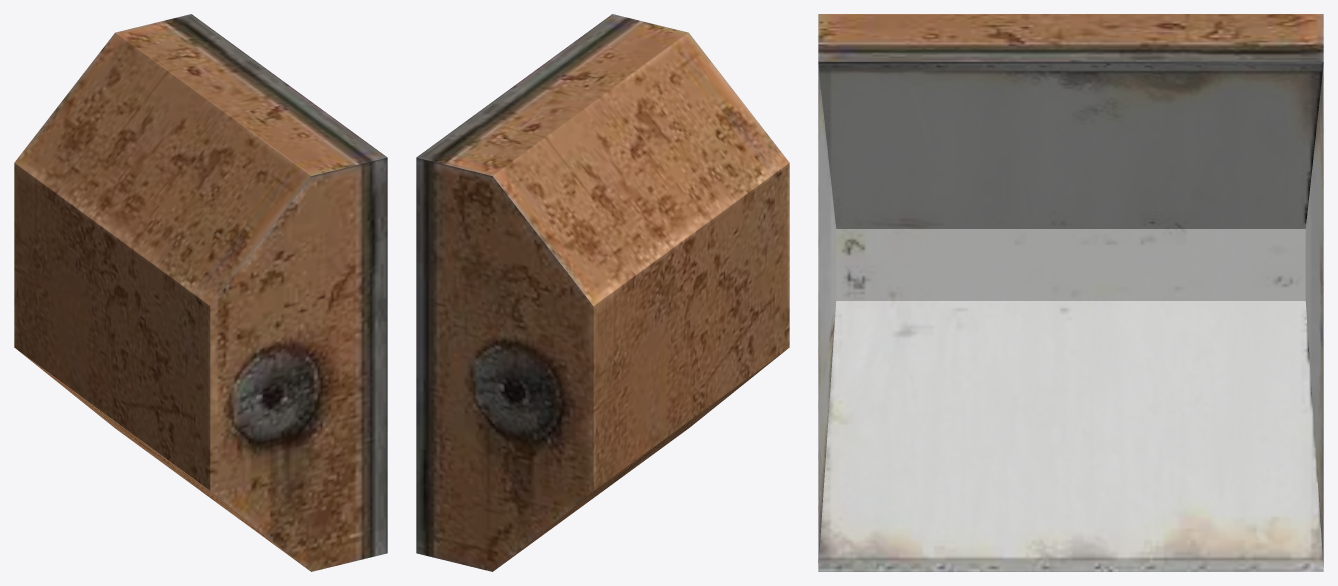
File: light_decklight01_on.glb
The picture shows the model from 3 angles, left to right: view 1: azimuth 30°, elevation 25°; view 2: azimuth 150°, elevation 25°; view 3: azimuth 270°, elevation 25°; orthographic projection. The views are drawn at different scales.
Visible parts, largest first — view 1: 0_metaldecklighthousing01; view 2: 0_metaldecklighthousing01; view 3: 2_metaldecklight01bulbon01, 0_metaldecklighthousing01, 1_metaldecklight01glass01.
Boxes of the visible parts, x1,y1,x2,y2 form: 0_metaldecklighthousing01: [14, 14, 387, 571]; 0_metaldecklighthousing01: [416, 14, 789, 571]; 2_metaldecklight01bulbon01: [818, 62, 1323, 571]; 0_metaldecklighthousing01: [818, 14, 1323, 61]; 1_metaldecklight01glass01: [863, 63, 1117, 205].
Size of the model in its own units: 0.2544 by 0.5429 by 0.4878.
Materials: 3 (3 with a texture image).
